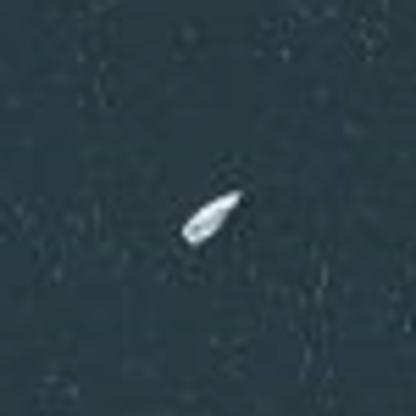ship: (172, 181, 254, 254)
